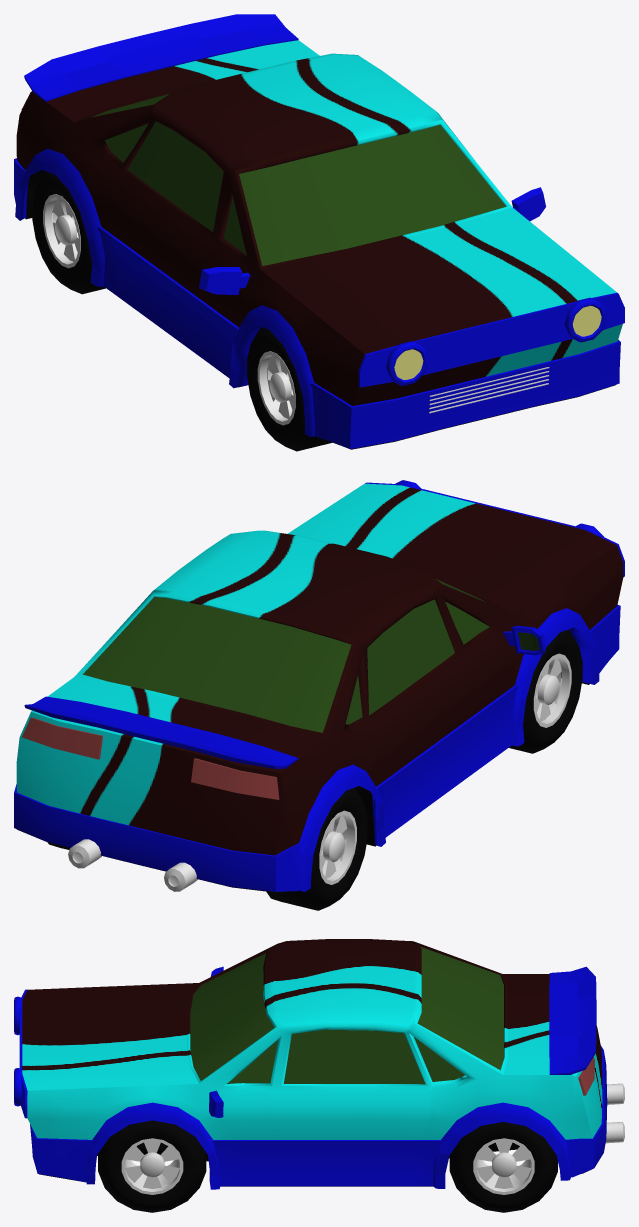
The model's file is Muscle Evolution2 Blue WaveCyanDarkRed DarkGreen White.glb.
3 views of the same model, one above another, from view 1: azimuth 30°, elevation 25°; view 2: azimuth 150°, elevation 25°; view 3: azimuth 270°, elevation 25° (orthographic). The views are drawn at different scales.
Parts seen in each view (by area): view 1: evo2_body2_f1_dupl, evo2_frontGlass_f1_dupl, evo2_sill2_f1_dupl, evo2_spoiler2_f1_dupl, evo2_front_square2_f1_dupl, evo2_glasseBigR_f1_dupl, evo2_mudguardFR_f1_dupl, evo2_mudguardbR_f1_dupl, evo2_tire_rf1_f1_dupl, evo2_tire_rf_f1_dupl, evo2_rim_A_rf_f1_dupl, evo2_rim_A_rb_f1_dupl (+9 smaller); view 2: evo2_body2_f1_dupl, evo2_BackGlassGlass_f1_dupl, evo2_sill2_f1_dupl, evo2_spoiler2_f1_dupl, evo2_glasseBigR_f1_dupl, evo2_tire_rf_f1_dupl, evo2_mudguardbR_f1_dupl, evo2_mudguardFR_f1_dupl, evo2_tire_rf1_f1_dupl, evo2_rim_A_rf_f1_dupl, evo2_rim_A_rb_f1_dupl, evo2_redlightR2_f1_dupl (+5 smaller); view 3: evo2_body2_f1_dupl, evo2_sill2_f1_dupl, evo2_BackGlassGlass_f1_dupl, evo2_glasseBigL_f1_dupl, evo2_frontGlass_f1_dupl, evo2_tire_lf_f1_dupl, evo2_tire_lb_f1_dupl, evo2_spoiler2_f1_dupl, evo2_mudguardBL_f1_dupl, evo2_mudguardFL_f1_dupl, evo2_rim_A_lf_f1_dupl, evo2_rim_A_lb_f1_dupl (+4 smaller).
Boxes of the visible parts, x1,y1,x2,y2 form: evo2_body2_f1_dupl: (16,40,622,405); evo2_frontGlass_f1_dupl: (239,125,505,265); evo2_sill2_f1_dupl: (14,158,620,449); evo2_spoiler2_f1_dupl: (24,14,298,101); evo2_front_square2_f1_dupl: (358,292,624,387); evo2_glasseBigR_f1_dupl: (128,121,223,231); evo2_mudguardFR_f1_dupl: (229,305,314,437); evo2_mudguardbR_f1_dupl: (15,148,104,286); evo2_tire_rf1_f1_dupl: (247,327,331,451); evo2_tire_rf_f1_dupl: (32,171,105,294); evo2_rim_A_rf_f1_dupl: (257,351,295,425); evo2_rim_A_rb_f1_dupl: (43,194,80,268); evo2_body2_f1_dupl: (16,483,623,855); evo2_BackGlassGlass_f1_dupl: (83,596,351,732); evo2_sill2_f1_dupl: (14,605,620,891); evo2_spoiler2_f1_dupl: (24,696,298,768); evo2_glasseBigR_f1_dupl: (367,599,454,715); evo2_tire_rf_f1_dupl: (266,787,367,910); evo2_mudguardbR_f1_dupl: (299,764,385,891); evo2_mudguardFR_f1_dupl: (512,608,599,746); evo2_tire_rf1_f1_dupl: (509,629,582,753); evo2_rim_A_rf_f1_dupl: (533,653,571,727); evo2_rim_A_rb_f1_dupl: (319,810,356,884); evo2_redlightR2_f1_dupl: (191,758,279,799); evo2_body2_f1_dupl: (22,939,602,1159); evo2_sill2_f1_dupl: (30,1045,607,1186); evo2_BackGlassGlass_f1_dupl: (417,946,503,1070); evo2_glasseBigL_f1_dupl: (283,1029,425,1084); evo2_frontGlass_f1_dupl: (190,953,274,1080); evo2_tire_lf_f1_dupl: (98,1120,206,1212); evo2_tire_lb_f1_dupl: (449,1122,557,1212); evo2_spoiler2_f1_dupl: (549,966,596,1074); evo2_mudguardBL_f1_dupl: (433,1102,570,1188); evo2_mudguardFL_f1_dupl: (86,1102,220,1189); evo2_rim_A_lf_f1_dupl: (121,1138,183,1194); evo2_rim_A_lb_f1_dupl: (473,1138,534,1194).
Bounding box in the file's own units: 177 × 112 × 331.
Materials: 7 (1 with a texture image).
